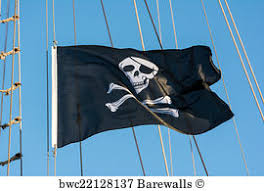Jolly Roger Flag: (52, 41, 235, 151)
